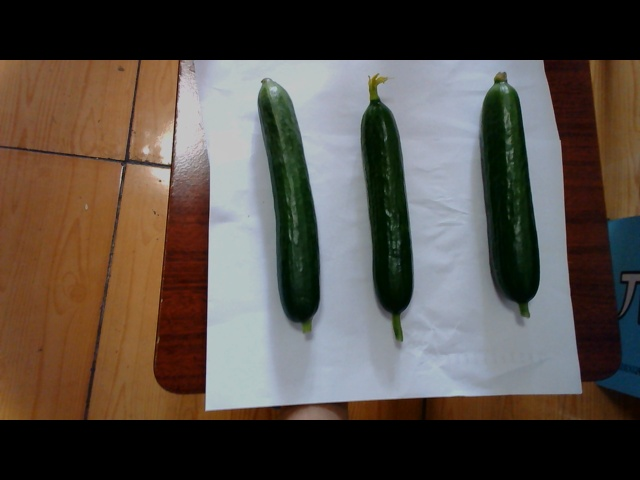cucumber: (248, 66, 332, 334), (477, 74, 550, 316), (356, 71, 417, 335)
